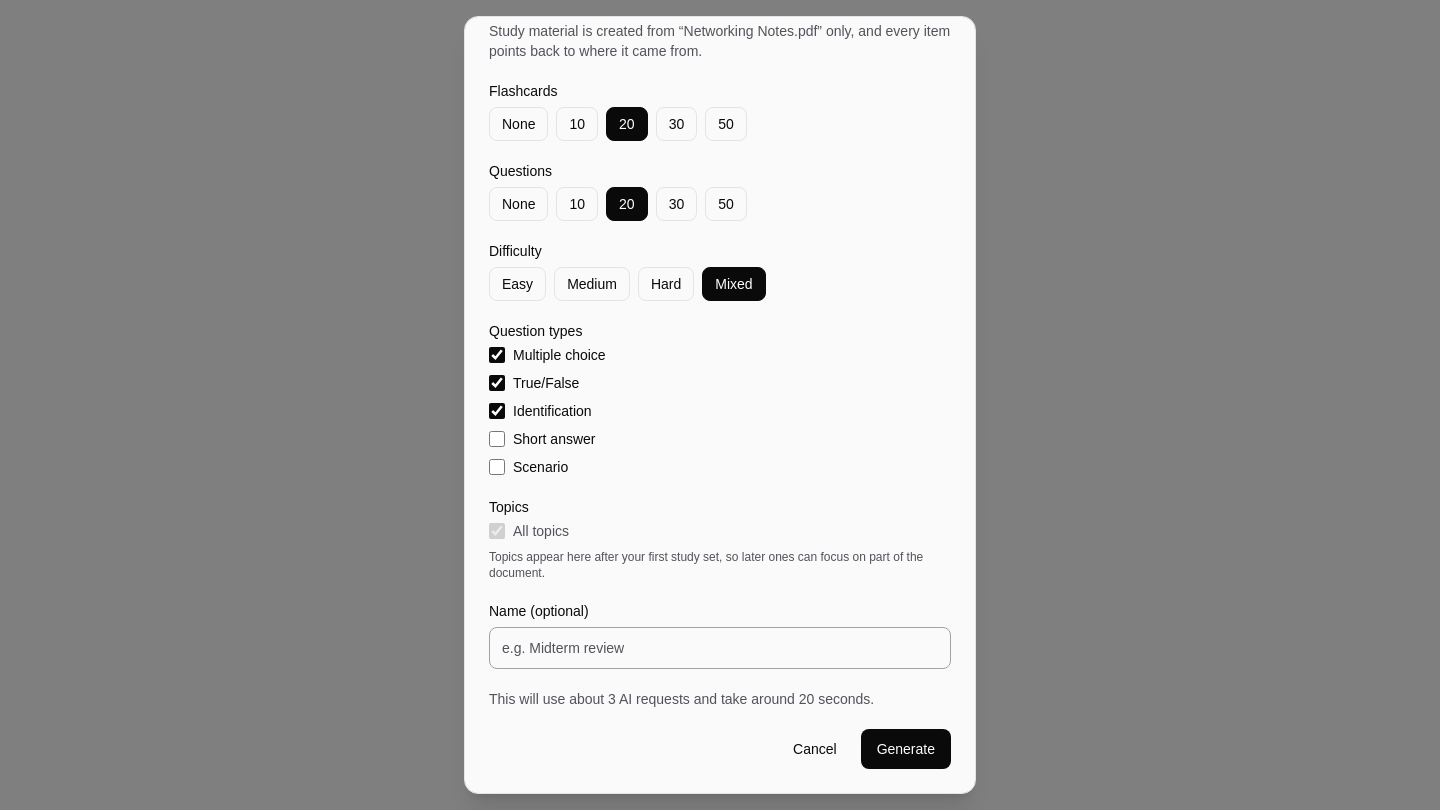
Scenario: GenerateModal › shows the server error and stays open when starting fails
(page scrolled)
Click the button "Generate" at (906, 749), box [861, 729, 951, 769]
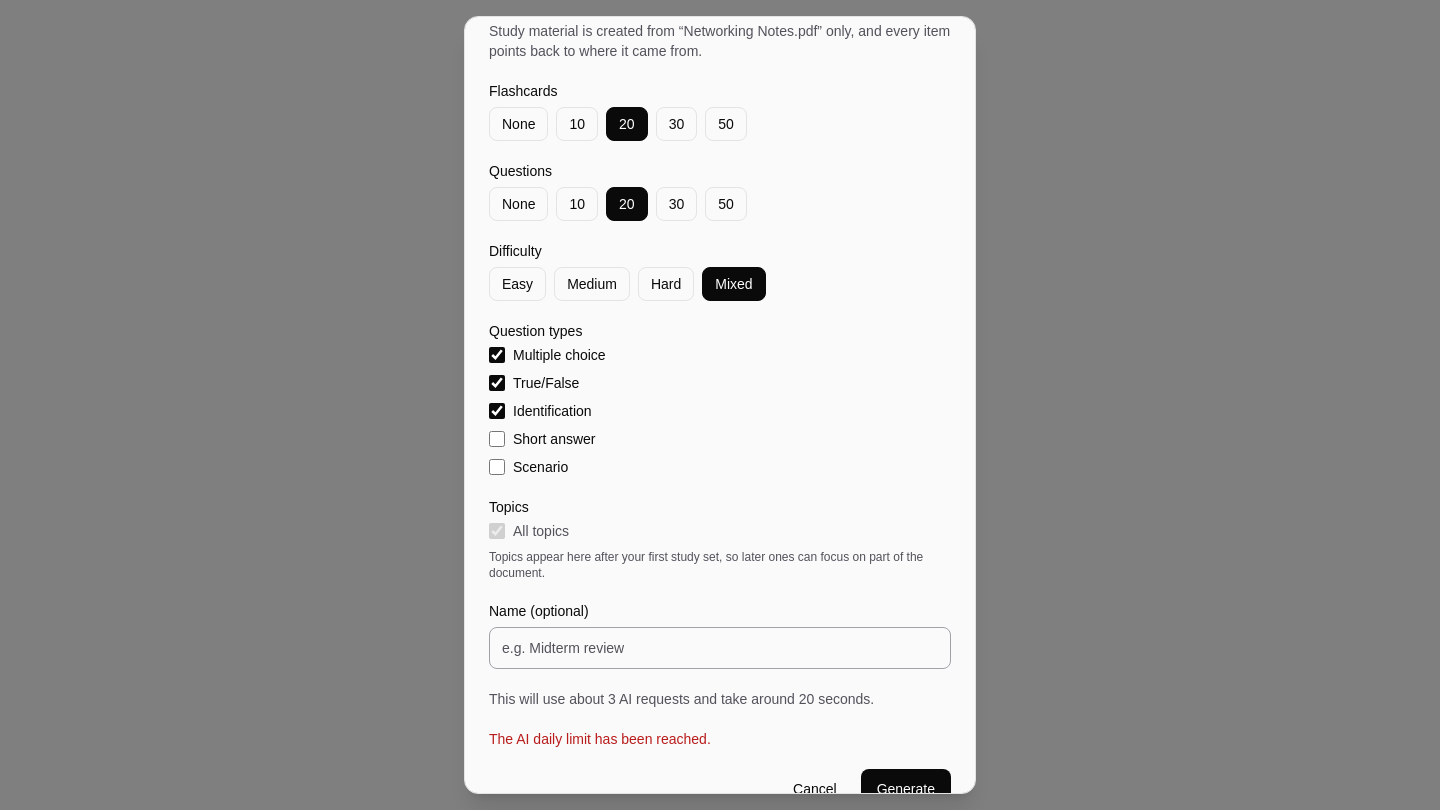
Result: the message reads "The AI daily limit has been reached." at [489, 731, 711, 747]
